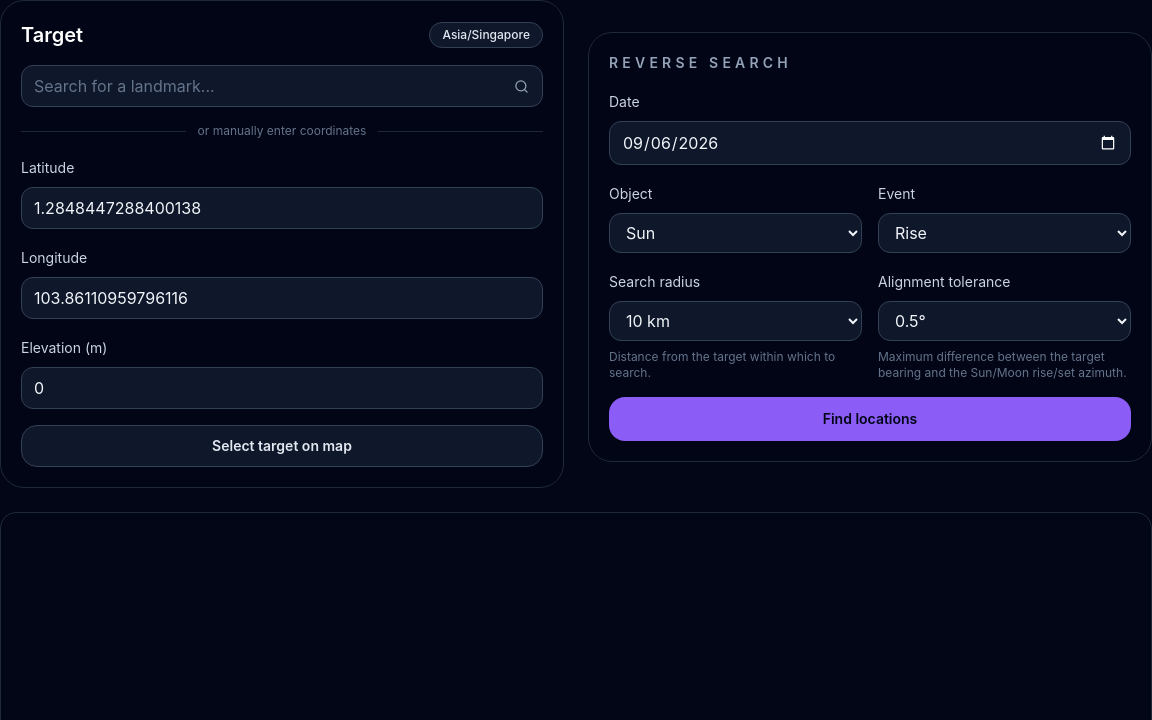
it: FindShootingLocations workspace › shows the Moon phase filter only when Moon is selected
Expected: the field labelled "Moon phase" is not shown
Step 1. Select "Moon" in the dropdown labelled "Object" → (736, 233), box [609,213,862,253]
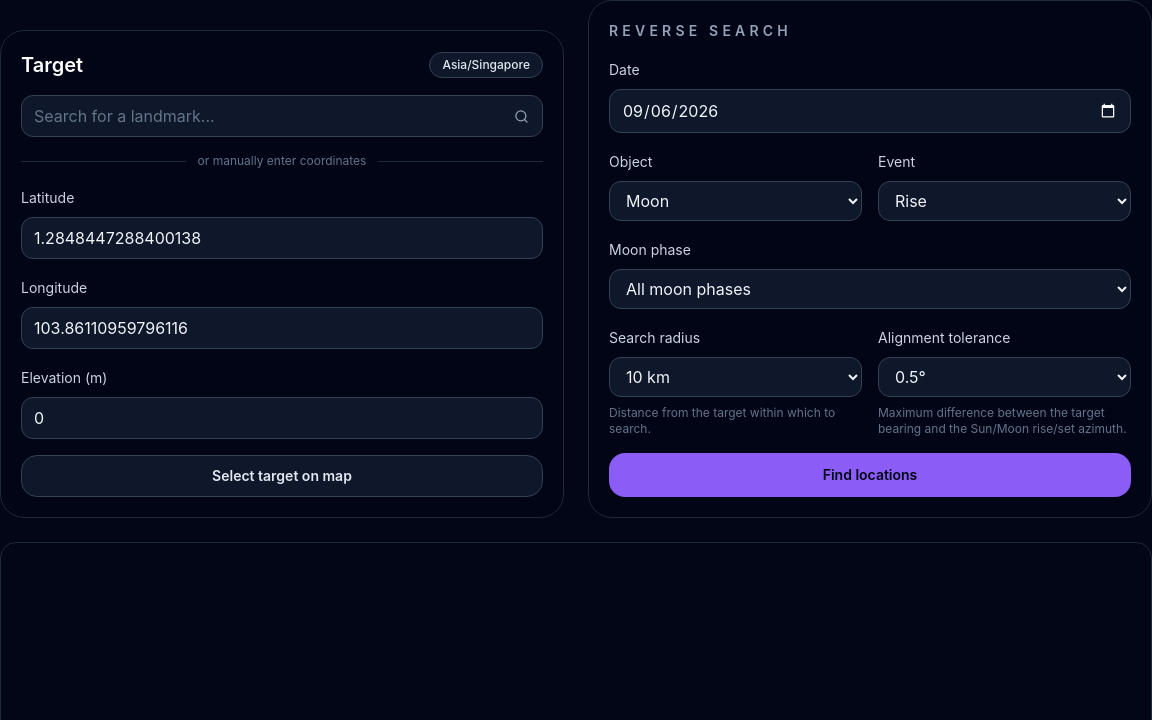
Now the dropdown labelled "Moon phase" is shown, box [609,269,1131,309]
